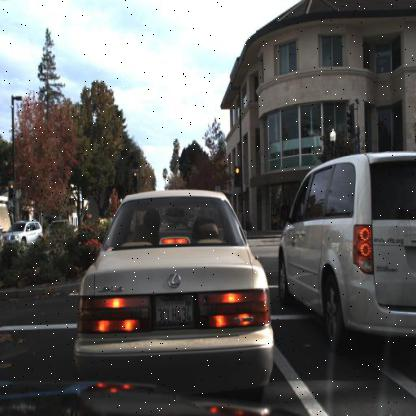car: (72, 185, 272, 386), (276, 142, 414, 364), (0, 217, 42, 247)
trafficLight-Red: (234, 165, 241, 187), (8, 181, 15, 201), (132, 169, 138, 188)
